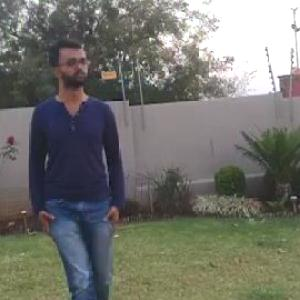follow: (23, 22, 130, 299)
